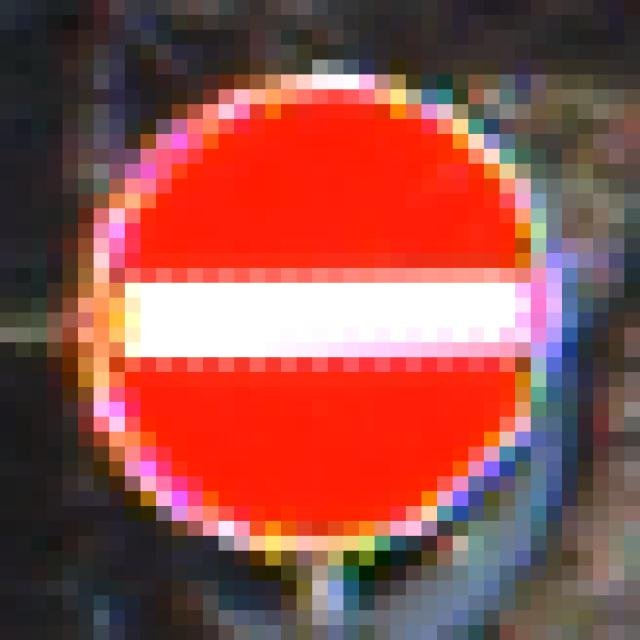No Entry: (79, 76, 563, 567)
